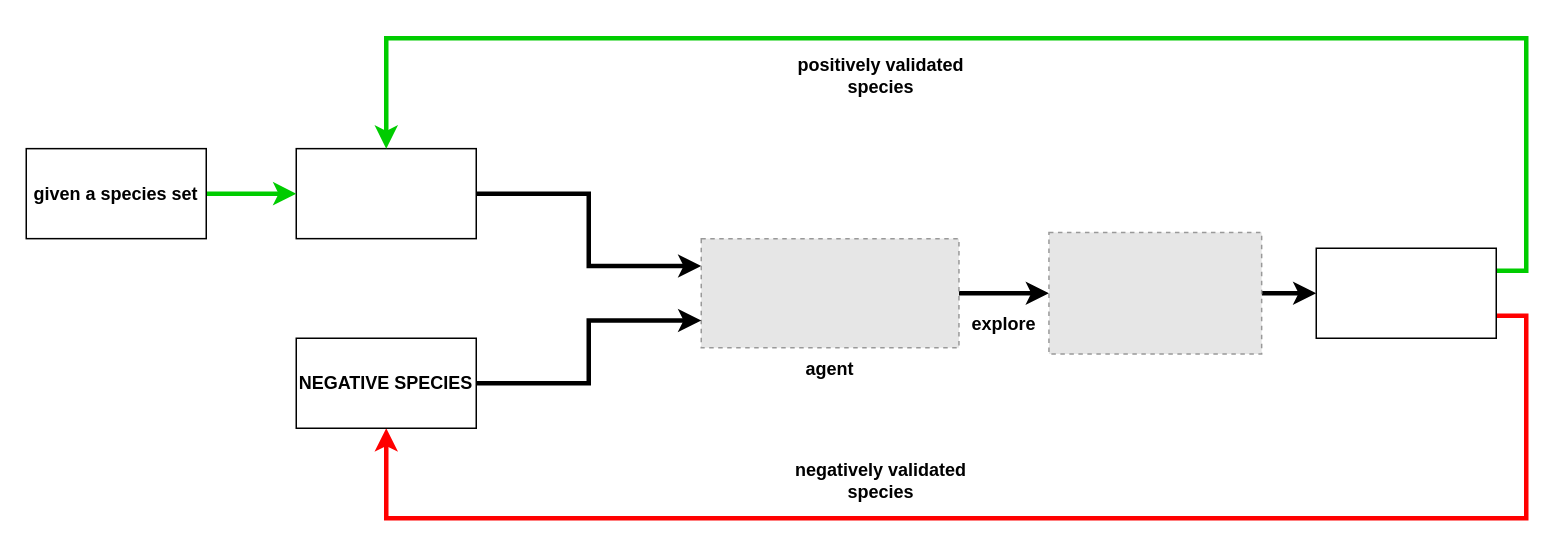
Some shapes in this 1566 by 558 pixel diagram are drawn without their labels. Grey dashed boxes stand in for pictures. Here are the shapes that lost their labels. From the top down, the centre of each, then its label:
(x=385, y=193): POSITIVE SPECIES
(x=1405, y=292): validate explored species
